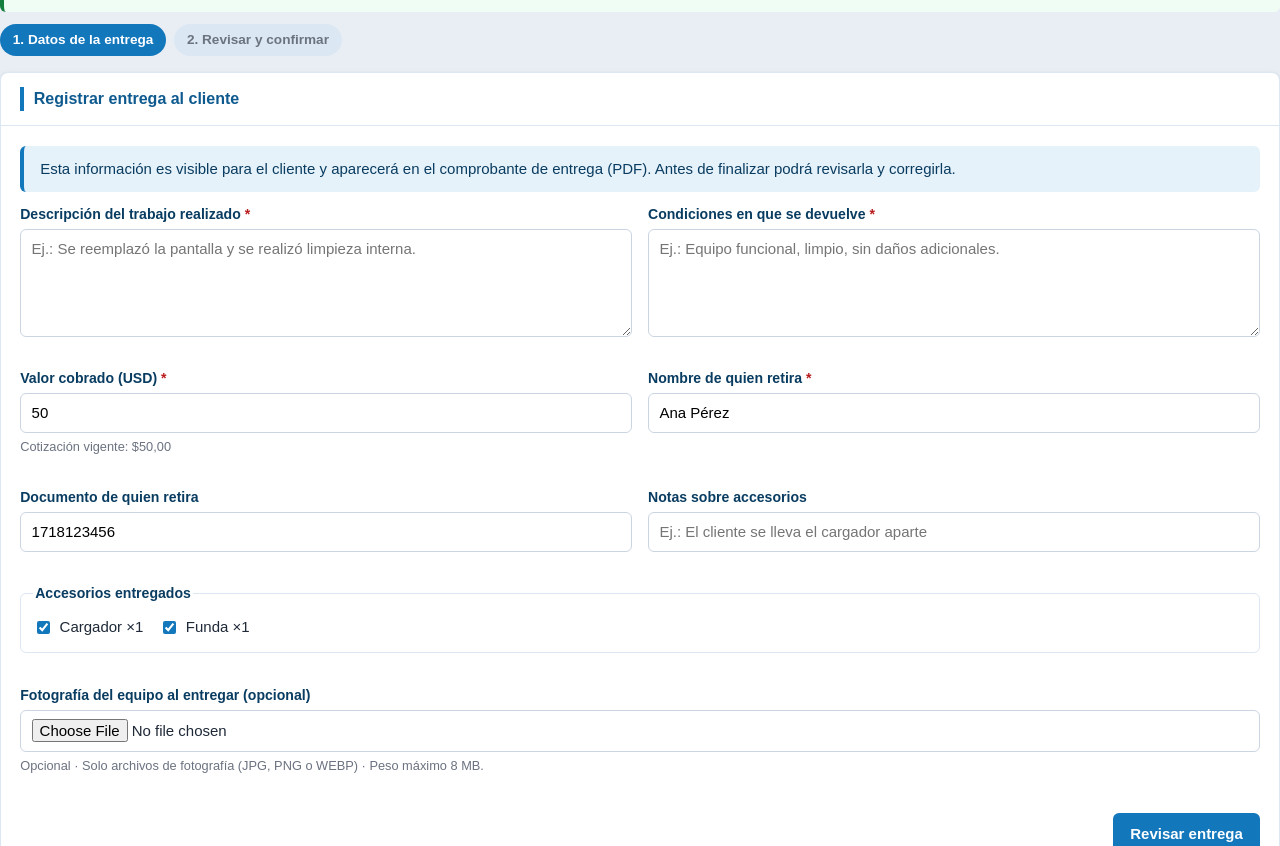
Test: DeliverySection — editar, revisar y confirmar › cancelar el "¿Está seguro?" no registra la entrega
Step 1. Type "Cambio de pantalla" into the text box labelled "Descripción del trabajo realizado *" → {"x": 326, "y": 283}, box [20,229,632,337]
Step 2. Type "Funcional y limpio" into the text box labelled "Condiciones en que se devuelve *" → {"x": 954, "y": 283}, box [648,229,1260,337]
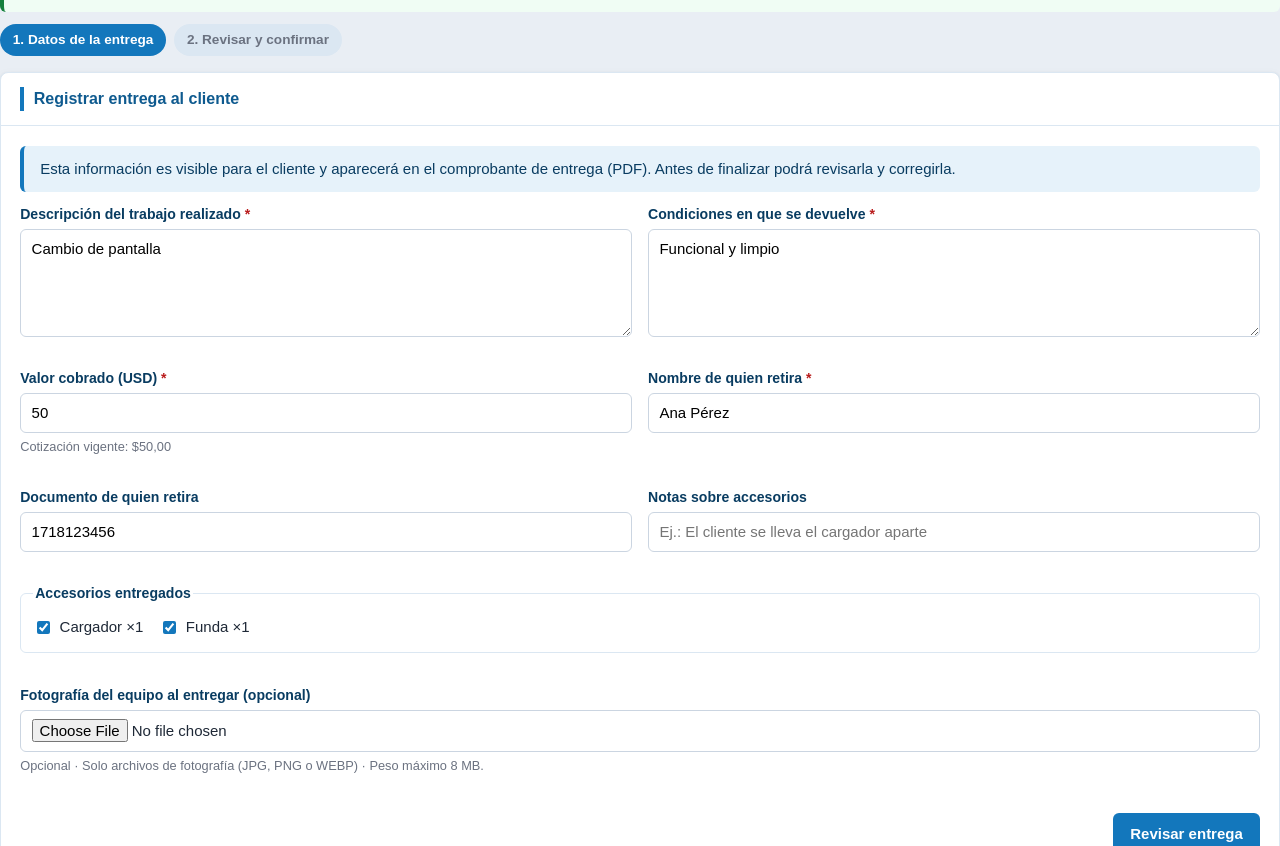
Step 3. Replace the text in the field labelled "Valor cobrado (USD) *" with "60" → {"x": 326, "y": 413}, box [20,393,632,433]
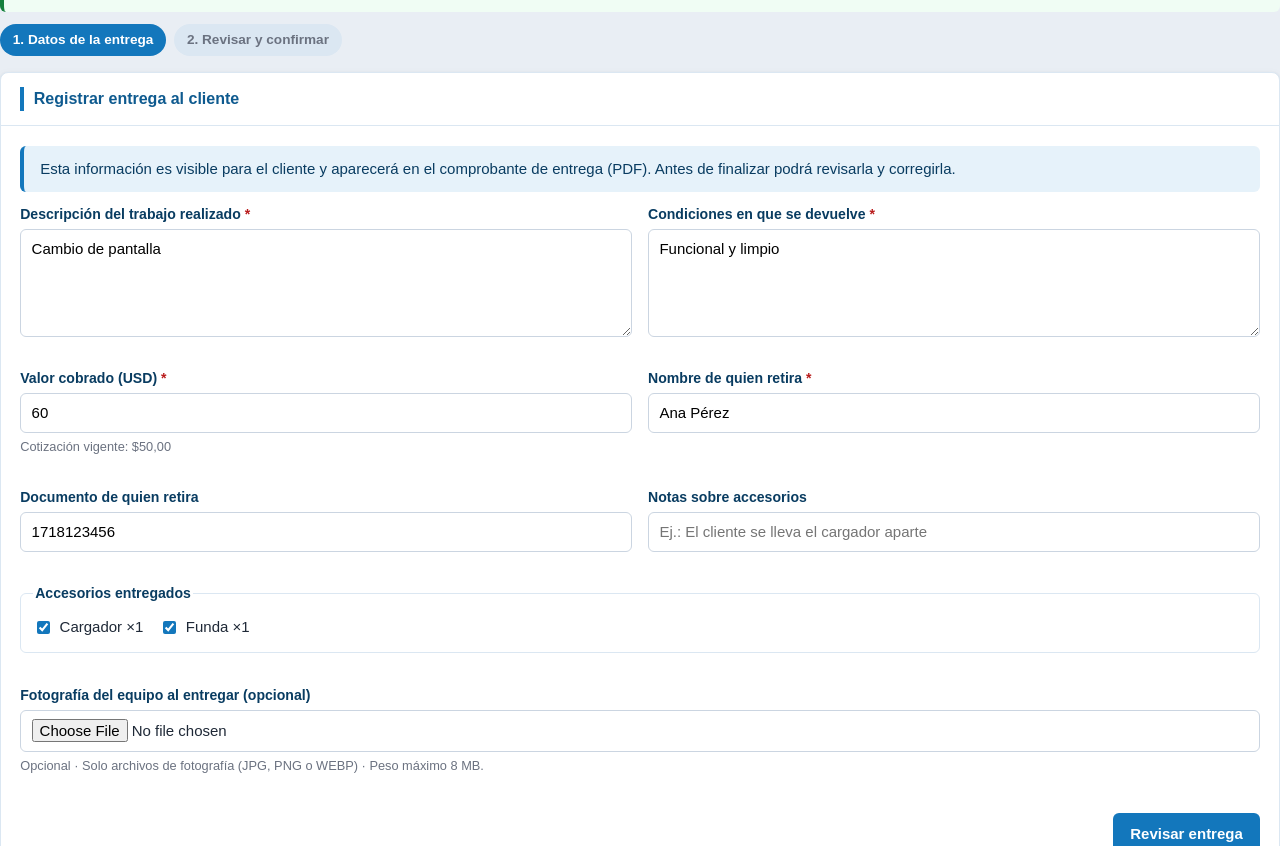
Step 4. Click the checkbox labelled "Funda ×1" → {"x": 170, "y": 627}, box [163,621,176,634]
(page scrolled)
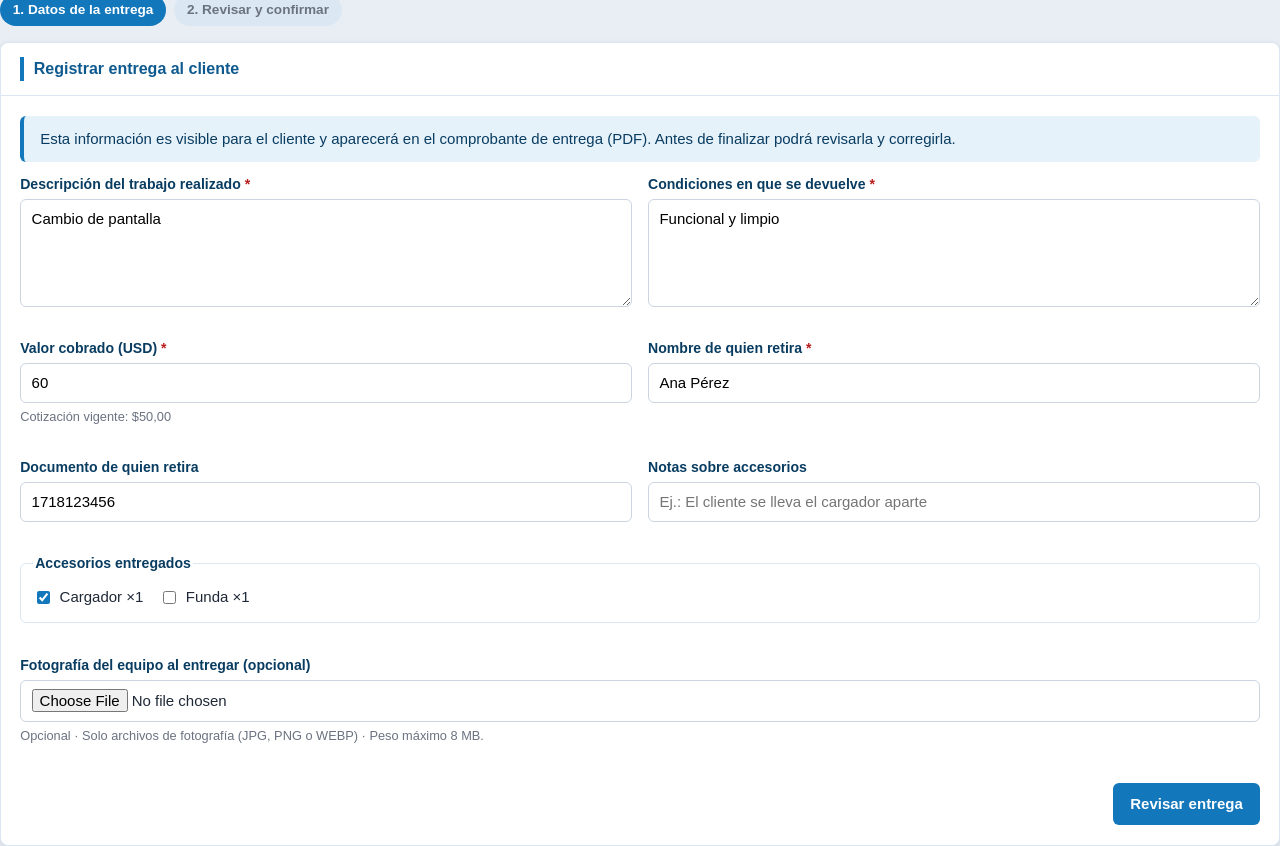
Step 5. Click the button "Revisar entrega" → {"x": 1187, "y": 804}, box [1113,783,1260,826]
(page scrolled)
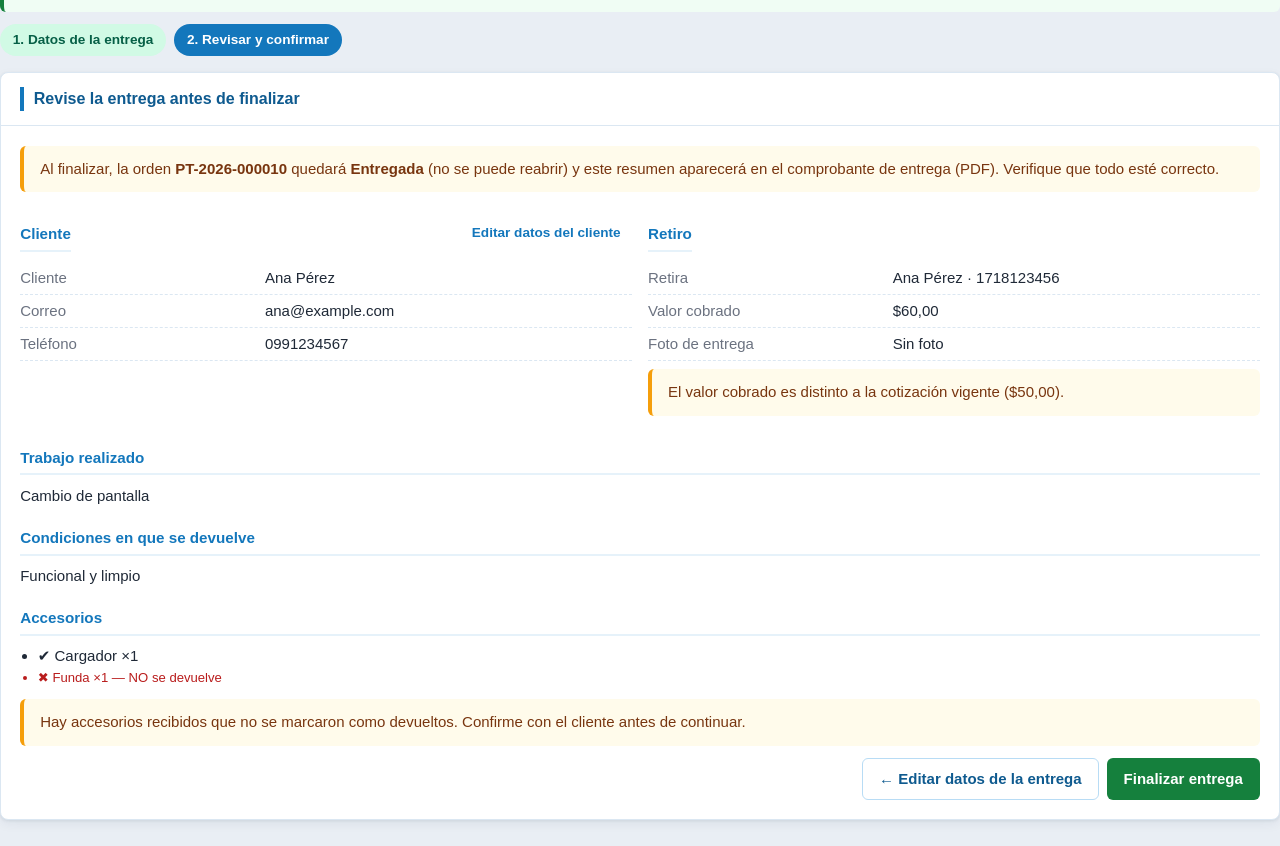
Step 6. Click the button "Finalizar entrega" → {"x": 1183, "y": 779}, box [1107,758,1260,800]
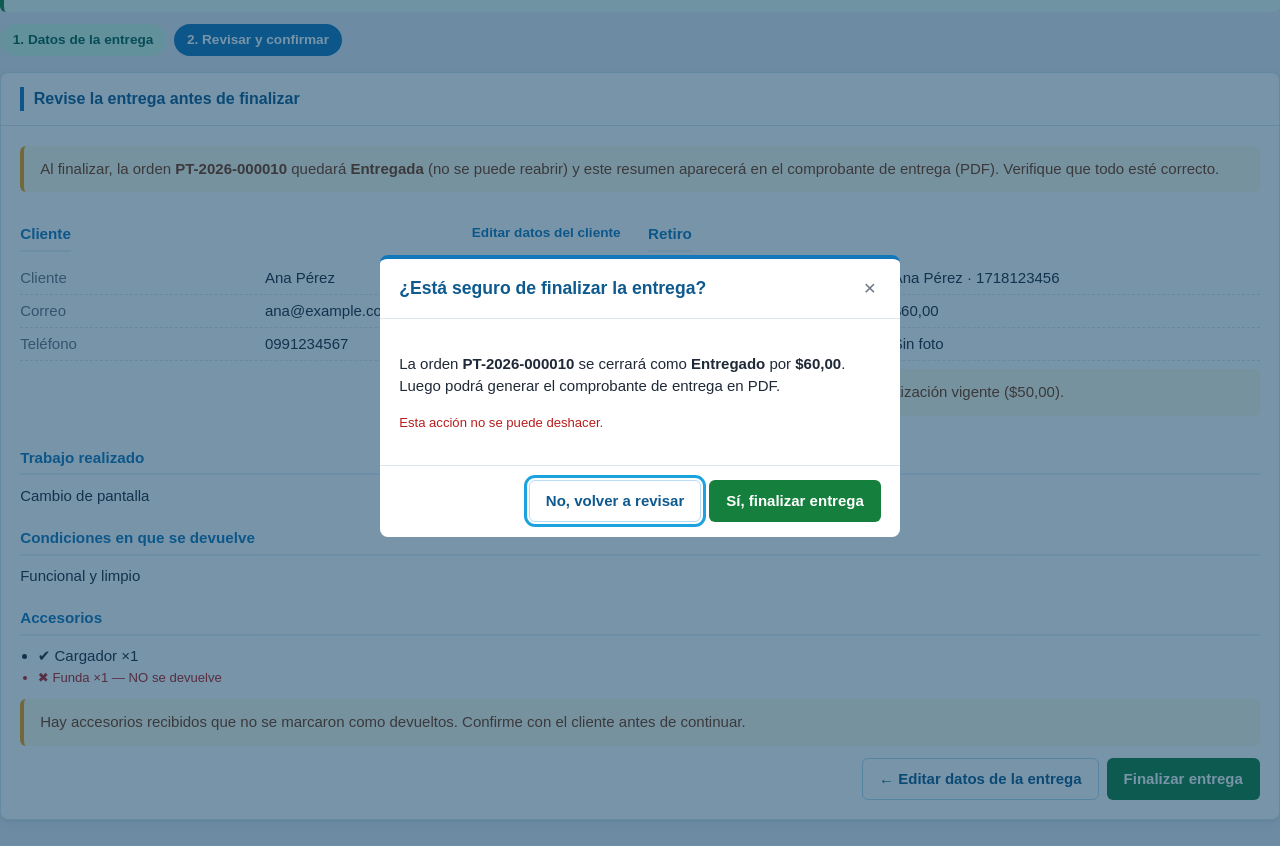
Step 7. Click the button "No, volver a revisar" → {"x": 615, "y": 501}, box [529,480,701,522]
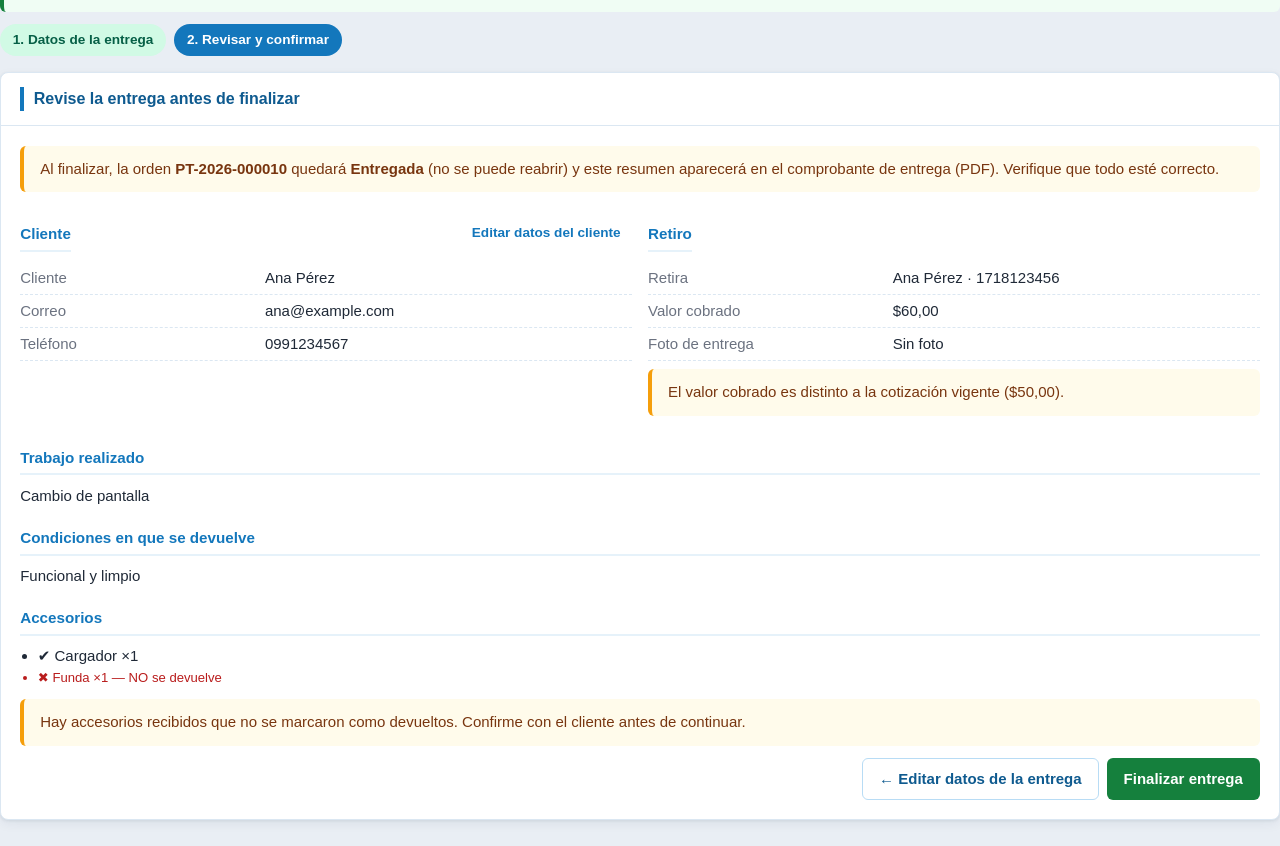
Expected: the heading "Revise la entrega antes de finalizar" is shown, [20,87,300,111]
Expected: the heading "¿Está seguro de finalizar la entrega?" is gone
